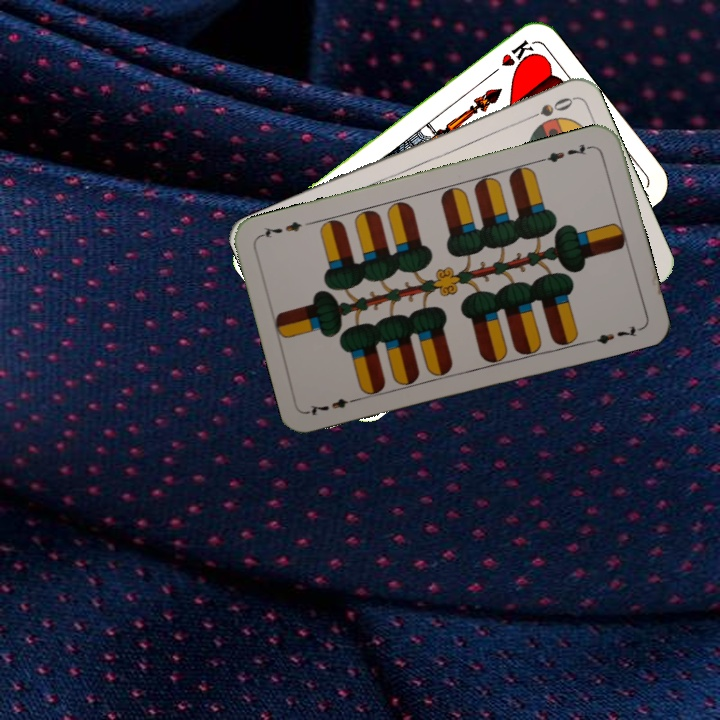E7: (537, 139, 596, 165), (305, 393, 363, 418)
HK: (484, 35, 537, 80)
SO: (519, 93, 576, 125)
